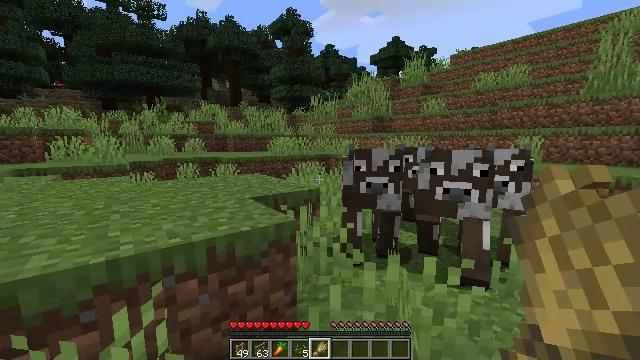cow: (420, 150, 493, 283), (343, 146, 398, 260), (495, 145, 534, 227)
